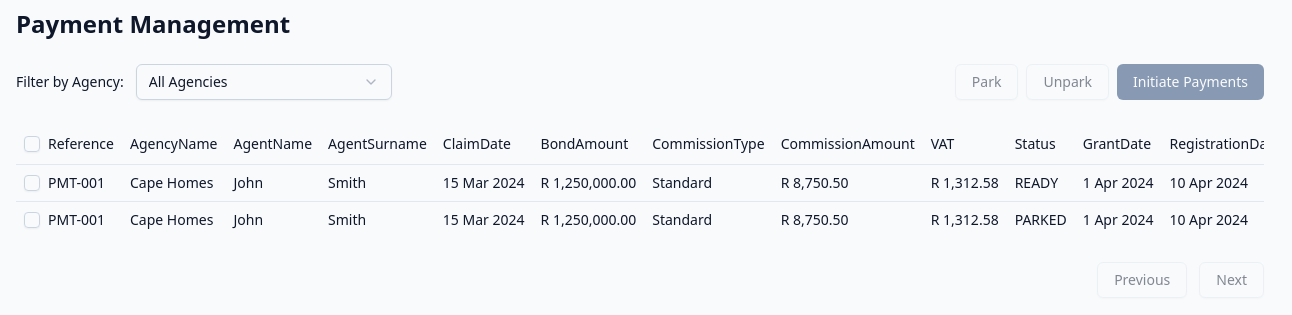
Scenario: Initiate Payments button — enabled when agency has READY payments › button becomes enabled when Cape Homes (which has a READY payment) is selected
Expected: the button "Initiate Payments" is shown, [1117, 64, 1264, 100]
Click the dropdown: x=264, y=82 [136, 64, 392, 100]
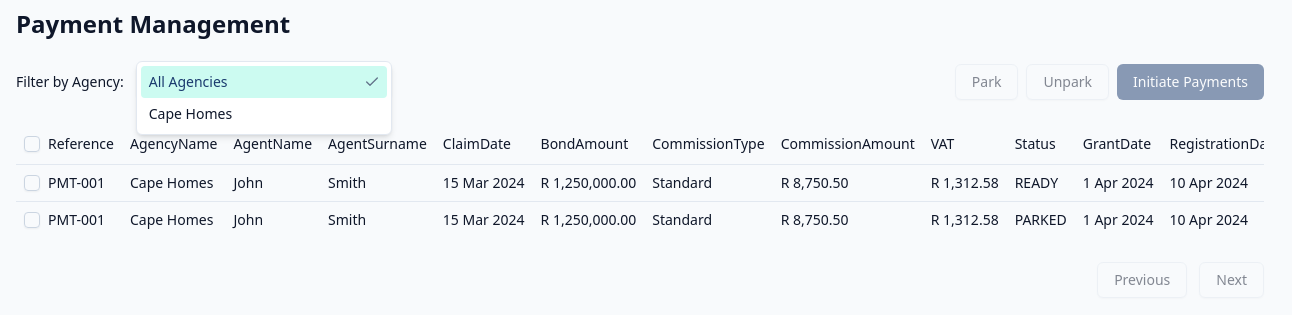
Click the option "Cape Homes": x=190, y=114 [149, 104, 232, 123]
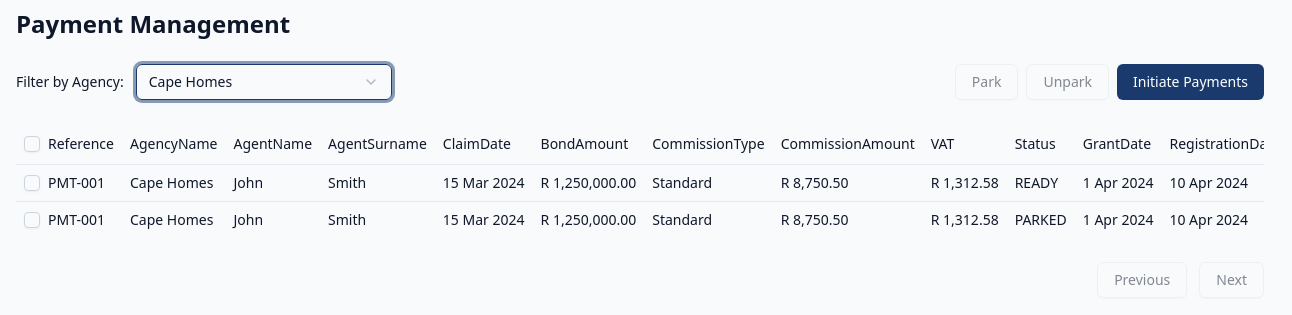
Expected: the button "Initiate Payments" is enabled, [1117, 64, 1264, 100]
